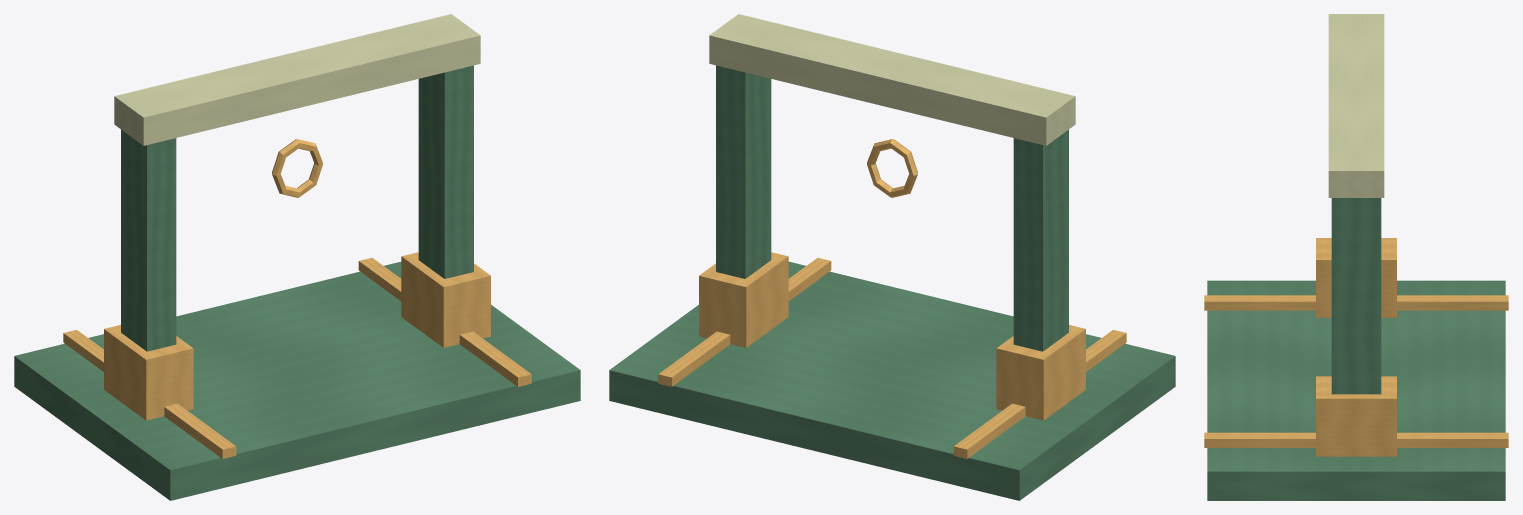
File: atlas100-s003-a02.lod2.glb
3 renders of one model, left to right at view 1: azimuth 30°, elevation 25°; view 2: azimuth 150°, elevation 25°; view 3: azimuth 270°, elevation 25°, orthographic. The views are drawn at different scales.
Visible parts, largest first — view 1: atlas100-s003-a02:part-000, atlas100-s003-a02:part-007, atlas100-s003-a02:part-003, atlas100-s003-a02:part-005, atlas100-s003-a02:part-004, atlas100-s003-a02:part-006, atlas100-s003-a02:part-002, atlas100-s003-a02:part-001, atlas100-s003-a02:part-009; view 2: atlas100-s003-a02:part-000, atlas100-s003-a02:part-007, atlas100-s003-a02:part-003, atlas100-s003-a02:part-005, atlas100-s003-a02:part-004, atlas100-s003-a02:part-006, atlas100-s003-a02:part-002, atlas100-s003-a02:part-001, atlas100-s003-a02:part-009; view 3: atlas100-s003-a02:part-000, atlas100-s003-a02:part-007, atlas100-s003-a02:part-005, atlas100-s003-a02:part-006, atlas100-s003-a02:part-001, atlas100-s003-a02:part-002, atlas100-s003-a02:part-004.
Part boxes in pixels (x1,y1,x2,y2): atlas100-s003-a02:part-000: (14,261,580,500); atlas100-s003-a02:part-007: (114,14,480,145); atlas100-s003-a02:part-003: (121,129,176,351); atlas100-s003-a02:part-005: (418,65,473,278); atlas100-s003-a02:part-004: (104,325,193,420); atlas100-s003-a02:part-006: (401,252,490,347); atlas100-s003-a02:part-002: (358,257,531,386); atlas100-s003-a02:part-001: (63,330,236,458); atlas100-s003-a02:part-009: (272,139,322,197); atlas100-s003-a02:part-000: (609,261,1175,500); atlas100-s003-a02:part-007: (709,14,1075,145); atlas100-s003-a02:part-003: (1013,129,1068,351); atlas100-s003-a02:part-005: (716,65,771,278); atlas100-s003-a02:part-004: (996,325,1085,420); atlas100-s003-a02:part-006: (699,252,788,347); atlas100-s003-a02:part-002: (658,257,831,386); atlas100-s003-a02:part-001: (953,330,1126,458); atlas100-s003-a02:part-009: (867,139,917,197); atlas100-s003-a02:part-000: (1207,280,1505,500); atlas100-s003-a02:part-007: (1328,14,1384,197); atlas100-s003-a02:part-005: (1331,198,1381,394); atlas100-s003-a02:part-006: (1316,376,1396,456); atlas100-s003-a02:part-001: (1204,295,1508,310); atlas100-s003-a02:part-002: (1204,432,1508,447); atlas100-s003-a02:part-004: (1316,238,1396,317).
Size of the model in its own units: 3.64 by 2.78 by 2.45.
Materials: 3 (3 with a texture image).
